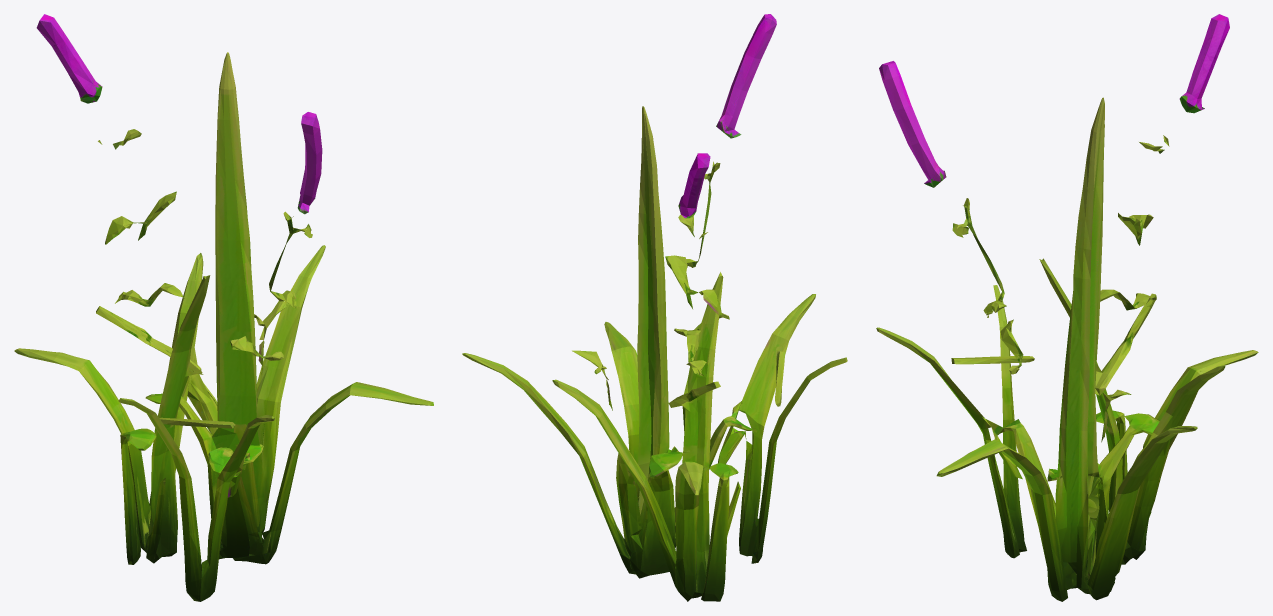
The model's file is grassa.obj.
3 renders of one model, left to right at view 1: azimuth 30°, elevation 25°; view 2: azimuth 150°, elevation 25°; view 3: azimuth 270°, elevation 25°, orthographic. The views are drawn at different scales.
Visible parts, largest first — view 1: tripo_node_17e19f63-7b4e-4309-8dc0-50f0db1b41b3; view 2: tripo_node_17e19f63-7b4e-4309-8dc0-50f0db1b41b3; view 3: tripo_node_17e19f63-7b4e-4309-8dc0-50f0db1b41b3.
Part boxes in pixels (box(x1,y1,x2,y2)): tripo_node_17e19f63-7b4e-4309-8dc0-50f0db1b41b3: box(14, 14, 433, 601); tripo_node_17e19f63-7b4e-4309-8dc0-50f0db1b41b3: box(462, 14, 847, 601); tripo_node_17e19f63-7b4e-4309-8dc0-50f0db1b41b3: box(876, 14, 1258, 601).
Size of the model in its own units: 0.612 by 0.9923 by 0.665.
